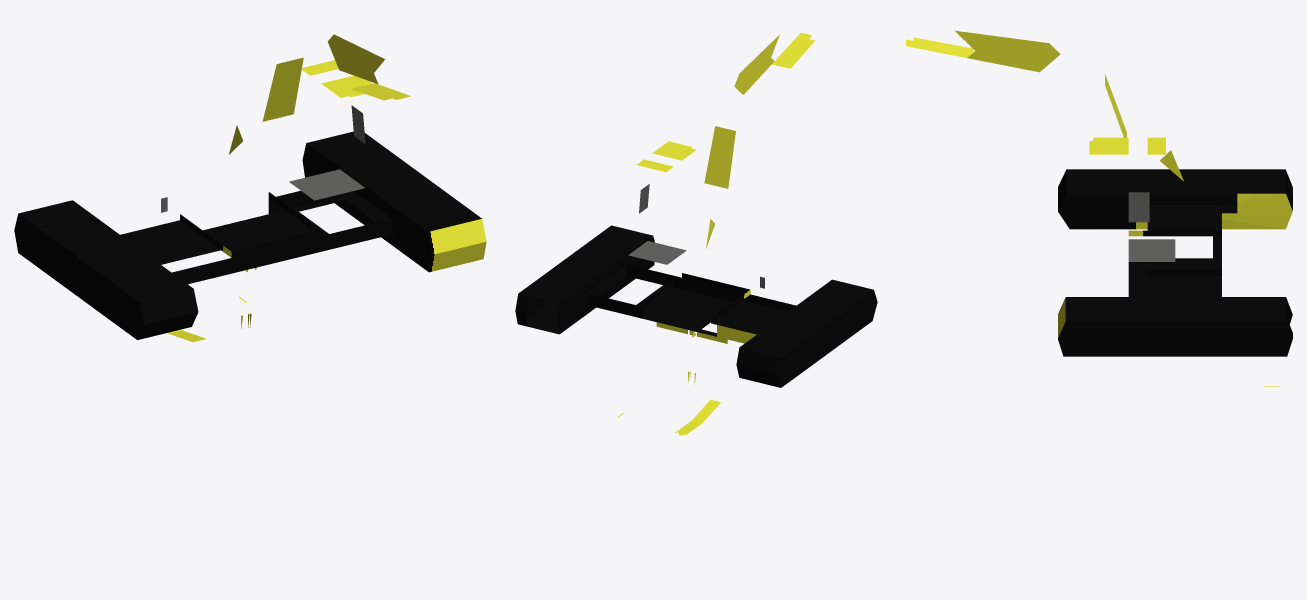
File: prototypeexcavatorMk2.obj
3 views of the same model, side by side, from view 1: azimuth 30°, elevation 25°; view 2: azimuth 150°, elevation 25°; view 3: azimuth 270°, elevation 25° (orthographic). The views are drawn at different scales.
Parts seen in each view (by area): view 1: Tracks_Cube.008, BackArm_Cube.006, MainCab_Cube.007; view 2: Tracks_Cube.008, BackArm_Cube.006, MainCab_Cube.007, Bucket_Cube.004; view 3: Tracks_Cube.008, BackArm_Cube.006, MainCab_Cube.007.
Part boxes in pixels (x1,y1,x2,y2): Tracks_Cube.008: (14, 131, 486, 339); BackArm_Cube.006: (229, 34, 410, 154); MainCab_Cube.007: (161, 60, 372, 212); Tracks_Cube.008: (515, 225, 877, 387); BackArm_Cube.006: (692, 32, 815, 337); MainCab_Cube.007: (628, 141, 764, 288); Bucket_Cube.004: (617, 322, 727, 435); Tracks_Cube.008: (1058, 169, 1292, 356); BackArm_Cube.006: (906, 30, 1183, 181); MainCab_Cube.007: (1089, 137, 1175, 261).
Bounding box in the file's own units: 7.67 × 13.36 × 8.27.
